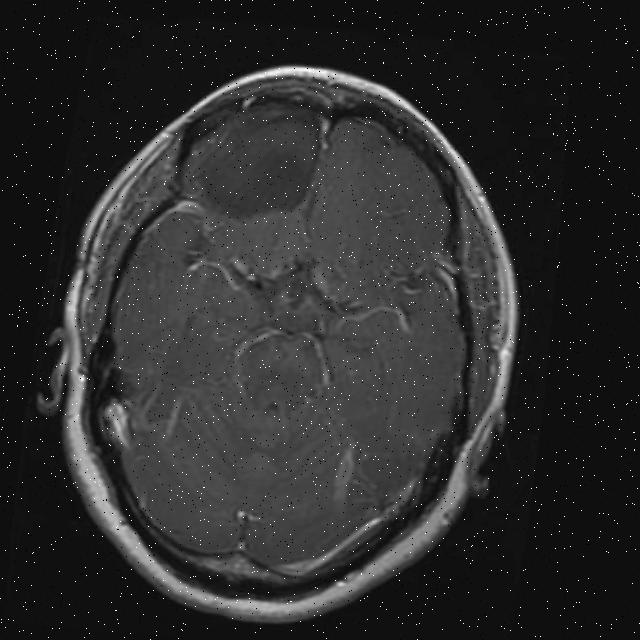Glioma: (185, 96, 326, 227)
